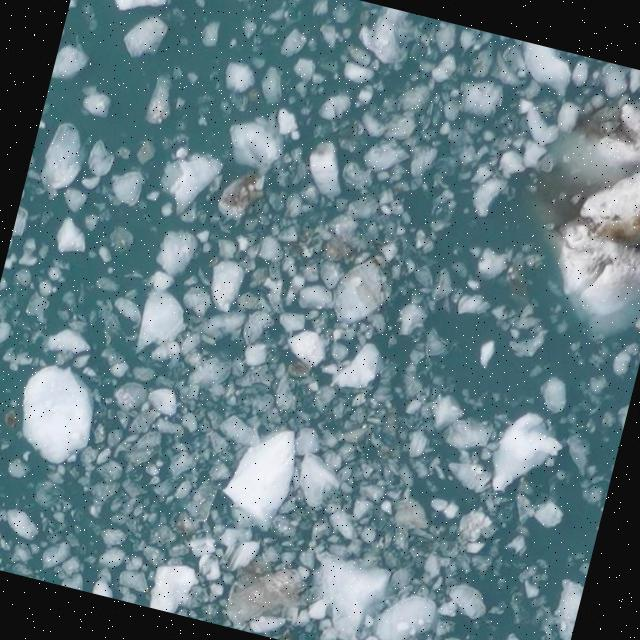seal: (593, 209, 640, 247)
